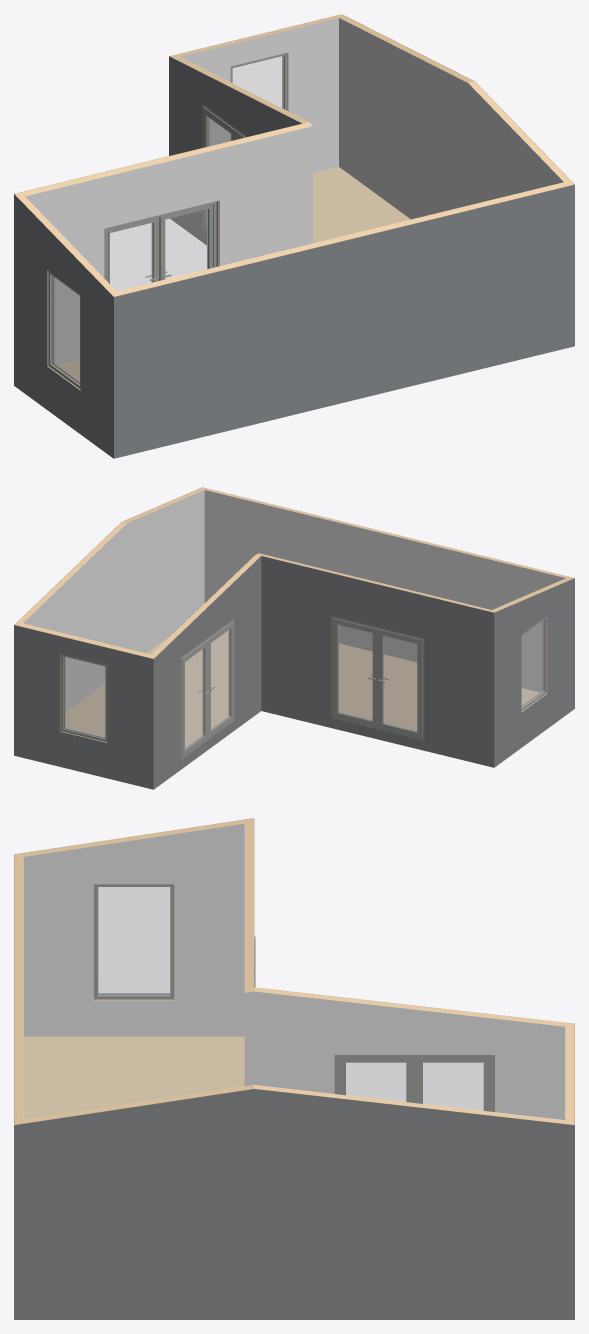
Rendered from Airija_Quinlan_(7,0x8,0m).fbx.
3 views of the same model, one above another, from view 1: azimuth 30°, elevation 25°; view 2: azimuth 150°, elevation 25°; view 3: azimuth 270°, elevation 25° (orthographic). The views are drawn at different scales.
Visible parts, largest first — view 1: IfcWall/Part:2410302, IfcWall/Part:2410304, IfcWall/Part:2412014, IfcWall/Part:2410299, IfcWall/Part:2410307, IfcDoor/WINDSOR Door Double Casement Signature:Double-Casem, IfcWall/Part:2412144, IfcSlab/Part:2410310, IfcWindow/Aluprof_MB-86-SI_E_Alu_Window-1sash-FIX_ENG_R-0004, IfcWall/Part:2410303, IfcWindow/Aluprof_MB-86-SI_E_Alu_Window-1sash-FIX_ENG_R-000, IfcWall/Part:2410306 (+5 smaller); view 2: IfcWall/Part:2412015, IfcWall/Part:2410301, IfcWall/Part:2410304, IfcWall/Part:2410308, IfcWall/Part:2412144, IfcDoor/WINDSOR Door Double Casement Signature:Double-Casem, IfcWall/Part:2410299, IfcSlab/Part:2410310, IfcDoor/WINDSOR Door Double Casement Signature:Double-Caseme, IfcWindow/Aluprof_MB-86-SI_E_Alu_Window-1sash-FIX_ENG_R-000, IfcWindow/Aluprof_MB-86-SI_E_Alu_Window-1sash-FIX_ENG_R-0004, IfcWall/Part:2410306 (+5 smaller); view 3: IfcWall/Part:2410305, IfcWall/Part:2410298, IfcWall/Part:2412143, IfcSlab/Part:2410310, IfcWindow/Aluprof_MB-86-SI_E_Alu_Window-1sash-FIX_ENG_R-0004, IfcDoor/WINDSOR Door Double Casement Signature:Double-Caseme, IfcWall/Part:2410303, IfcWall/Part:2410306, IfcWall/Part:2412016, IfcWall/Part:2412145, IfcWall/Part:2410300, IfcWall/Part:2410309.
Boxes of the visible parts, x1,y1,x2,y2 form: IfcWall/Part:2410302: (113, 184, 574, 458); IfcWall/Part:2410304: (339, 18, 563, 219); IfcWall/Part:2412014: (25, 126, 312, 365); IfcWall/Part:2410299: (14, 194, 113, 458); IfcWall/Part:2410307: (180, 18, 338, 172); IfcDoor/WINDSOR Door Double Casement Signature:Double-Casem: (104, 200, 218, 290); IfcWall/Part:2412144: (169, 56, 301, 245); IfcSlab/Part:2410310: (58, 167, 410, 381); IfcWindow/Aluprof_MB-86-SI_E_Alu_Window-1sash-FIX_ENG_R-0004: (48, 271, 80, 389); IfcWall/Part:2410303: (110, 182, 567, 296); IfcWindow/Aluprof_MB-86-SI_E_Alu_Window-1sash-FIX_ENG_R-000: (230, 53, 287, 140); IfcWall/Part:2410306: (339, 16, 573, 185); IfcWall/Part:2412015: (261, 556, 493, 767); IfcWall/Part:2410301: (204, 490, 565, 692); IfcWall/Part:2410304: (23, 490, 204, 711); IfcWall/Part:2410308: (14, 625, 153, 789); IfcWall/Part:2412144: (154, 556, 261, 789); IfcDoor/WINDSOR Door Double Casement Signature:Double-Casem: (331, 616, 424, 740); IfcWall/Part:2410299: (494, 578, 574, 767); IfcSlab/Part:2410310: (65, 630, 539, 747); IfcDoor/WINDSOR Door Double Casement Signature:Double-Caseme: (180, 619, 234, 759); IfcWindow/Aluprof_MB-86-SI_E_Alu_Window-1sash-FIX_ENG_R-000: (61, 654, 107, 742); IfcWindow/Aluprof_MB-86-SI_E_Alu_Window-1sash-FIX_ENG_R-0004: (521, 616, 547, 711); IfcWall/Part:2410306: (18, 487, 206, 623); IfcWall/Part:2410305: (14, 1089, 574, 1319); IfcWall/Part:2410298: (23, 823, 244, 1036); IfcWall/Part:2412143: (244, 991, 565, 1119); IfcSlab/Part:2410310: (23, 1036, 244, 1119); IfcWindow/Aluprof_MB-86-SI_E_Alu_Window-1sash-FIX_ENG_R-0004: (94, 884, 174, 999); IfcDoor/WINDSOR Door Double Casement Signature:Double-Caseme: (334, 1055, 494, 1111); IfcWall/Part:2410303: (14, 853, 23, 1121); IfcWall/Part:2410306: (14, 1085, 565, 1124); IfcWall/Part:2412016: (245, 822, 253, 988); IfcWall/Part:2412145: (245, 987, 565, 1026); IfcWall/Part:2410300: (23, 818, 253, 1000); IfcWall/Part:2410309: (565, 1023, 574, 1124).
Size of the model in its own units: 800 by 318 by 700.
